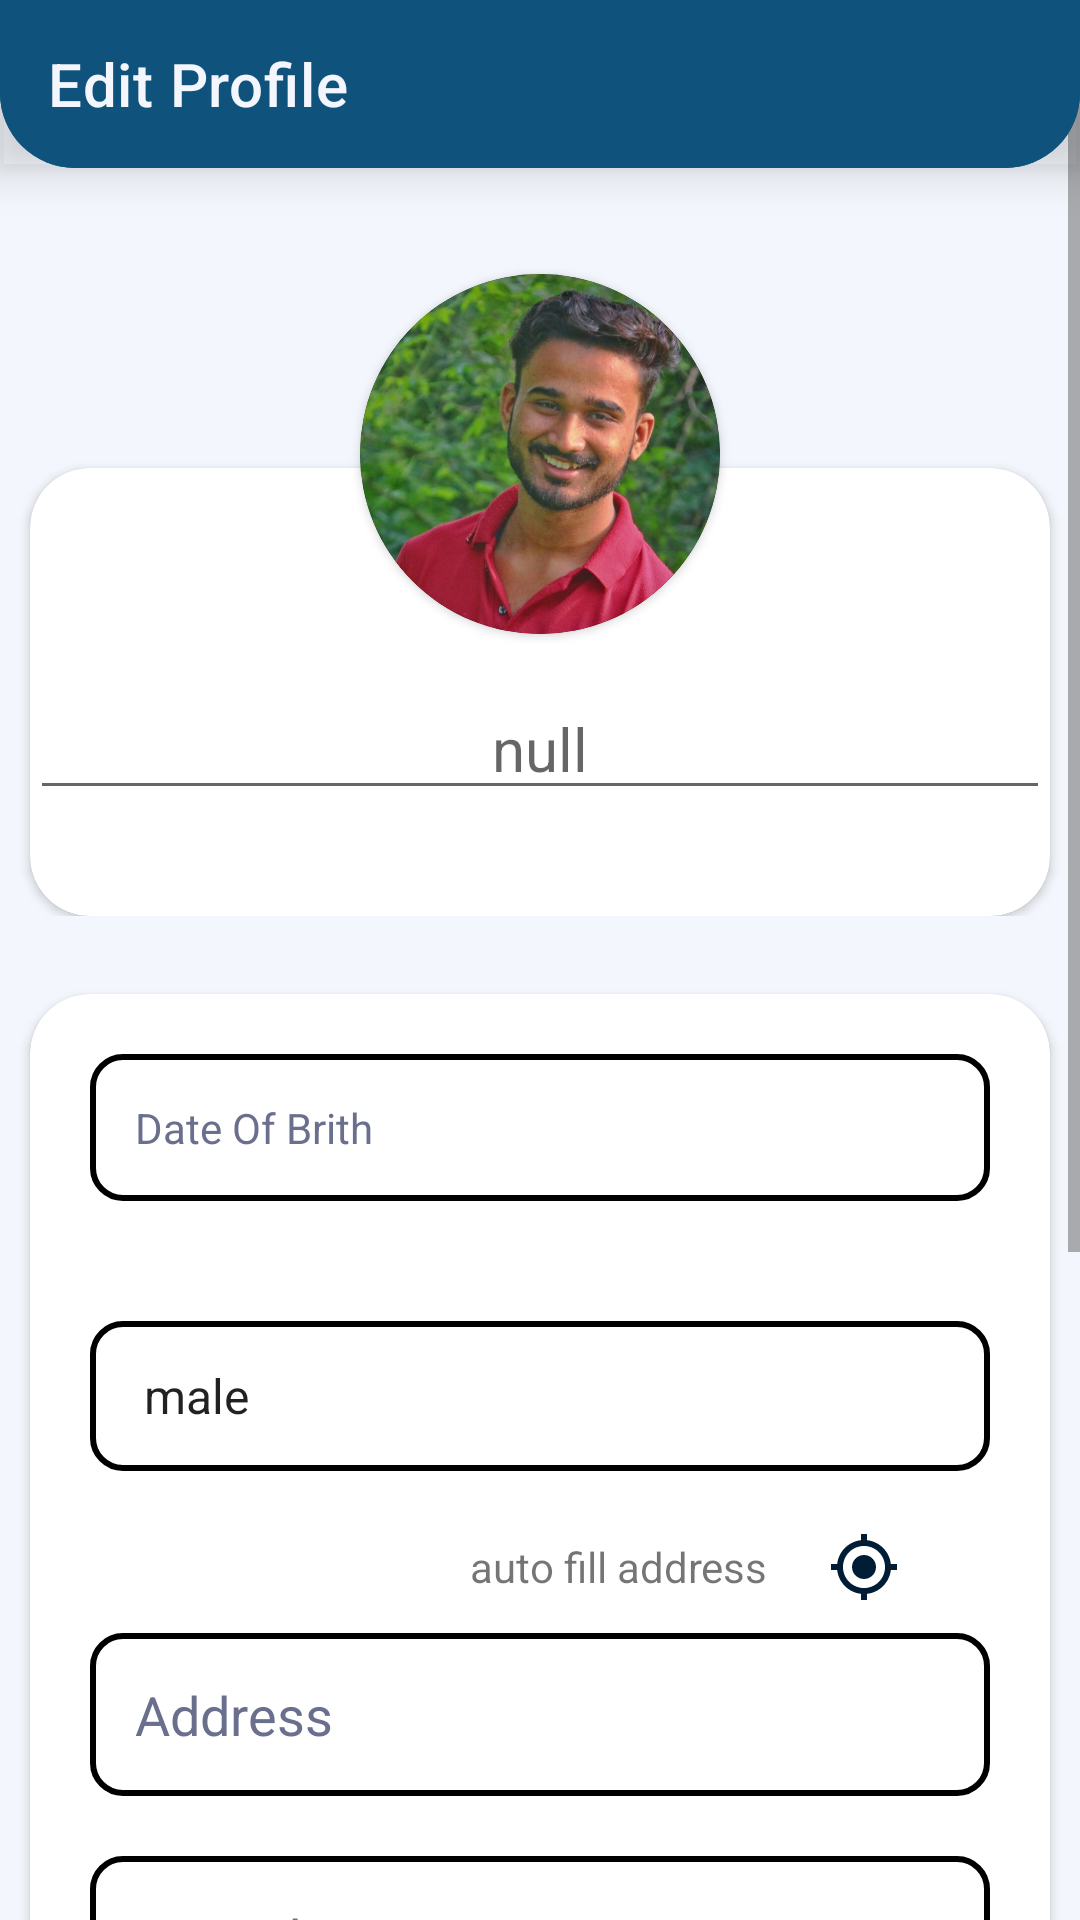

Screen size 1080 × 1920. Icon name, then its center in pixels as point (x, y):
gps fixed: point (864, 1567)
